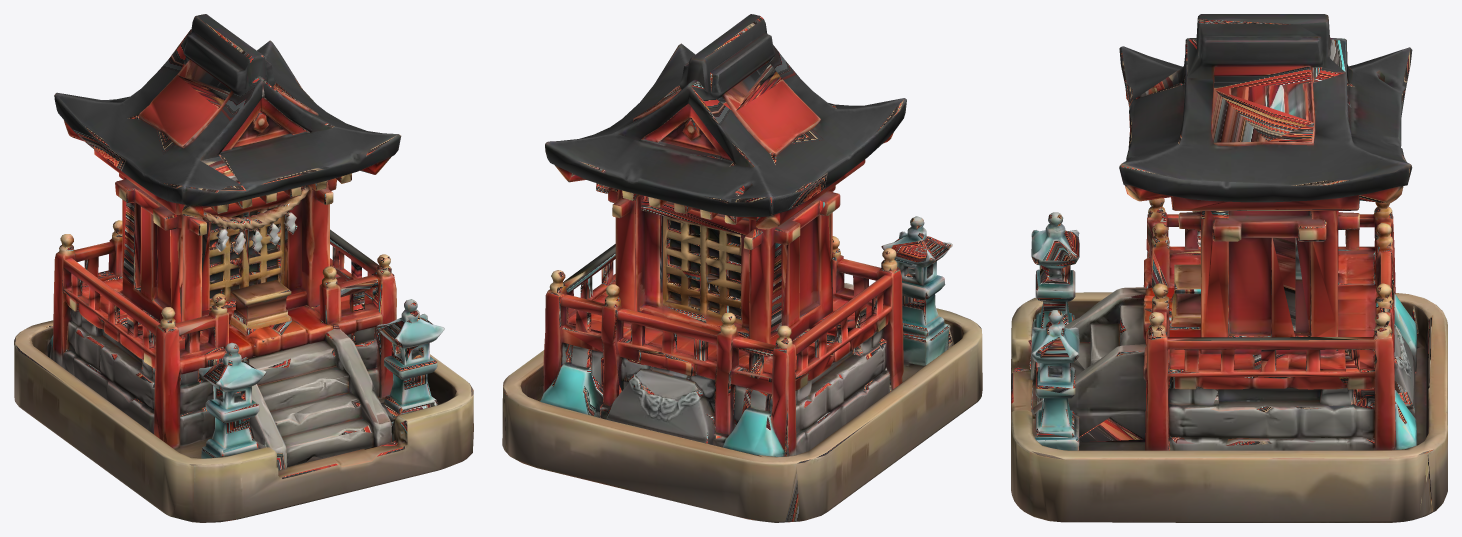
Rendered from Shrine.glb.
3 renders of one model, left to right at view 1: azimuth 30°, elevation 25°; view 2: azimuth 150°, elevation 25°; view 3: azimuth 270°, elevation 25°, orthographic. The views are drawn at different scales.
Visible parts, largest first — view 1: Shrine; view 2: Shrine; view 3: Shrine.
Boxes of the visible parts, box(x1,y1,x2,y2) form: Shrine: box(14, 14, 473, 522); Shrine: box(502, 14, 982, 522); Shrine: box(1011, 14, 1447, 522).
Bounding box in the file's own units: 1.69 × 2 × 1.86.
Materials: 1 (1 with a texture image).
